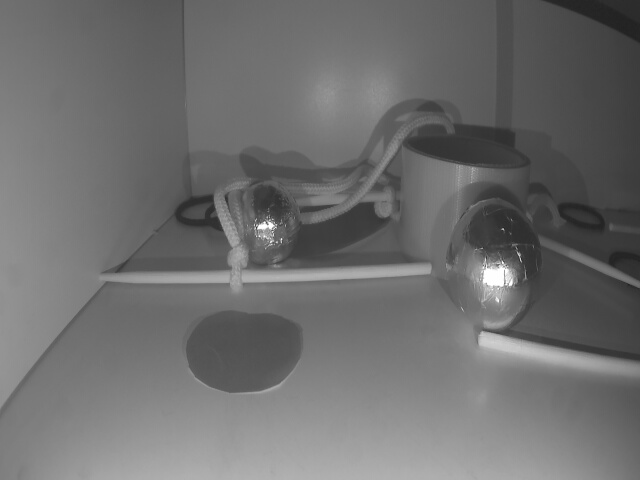Live: (447, 201, 540, 337), (236, 180, 298, 269)
